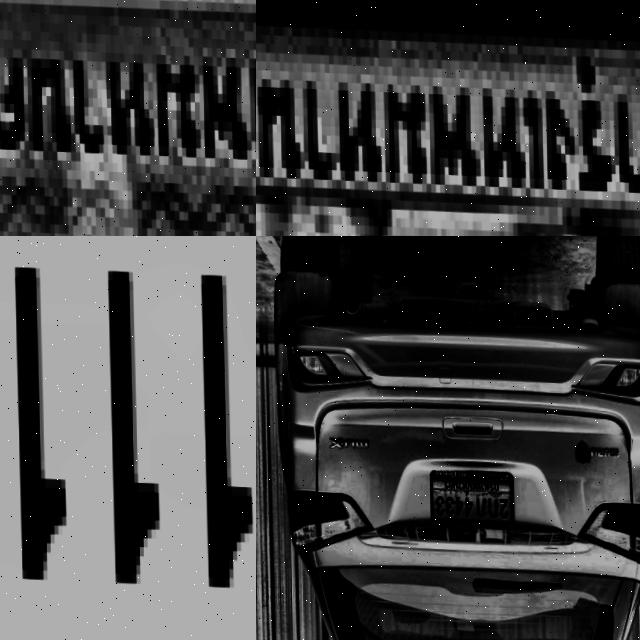license-plate: (0, 236, 256, 640), (256, 0, 640, 236), (0, 0, 256, 236), (420, 454, 517, 531)
